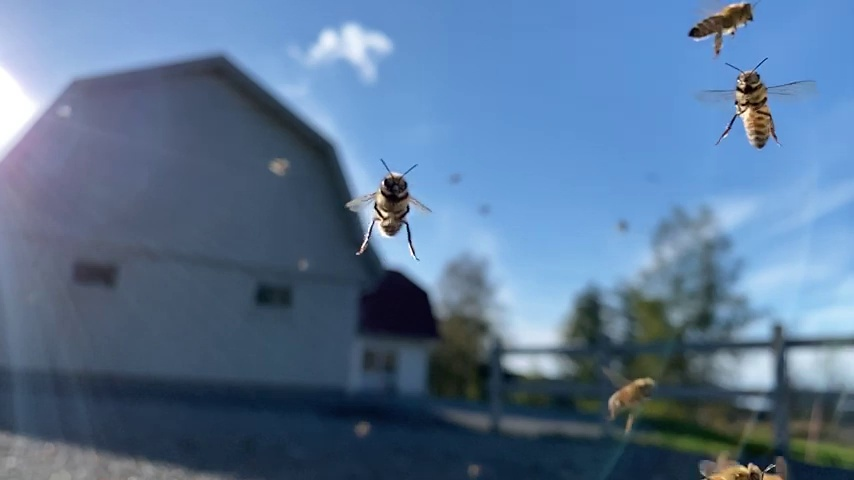insect: (345, 160, 429, 264), (708, 59, 799, 154), (682, 1, 762, 49), (595, 373, 658, 422)
